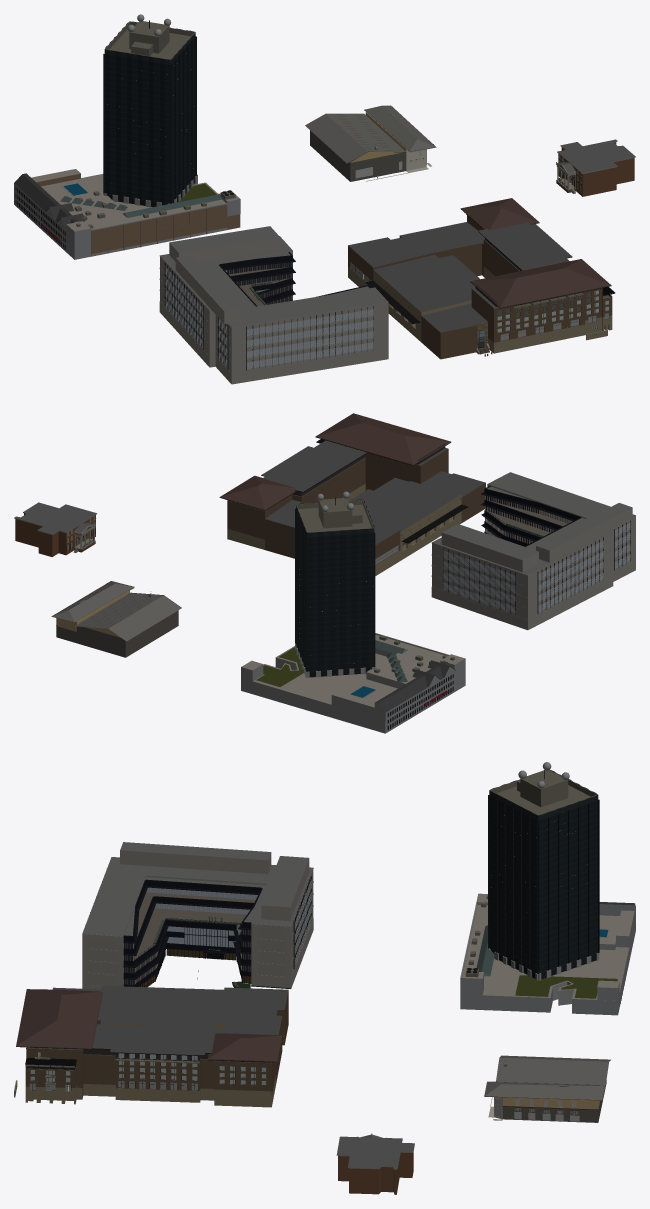
3 renders of one model, top to bottom at view 1: azimuth 30°, elevation 25°; view 2: azimuth 150°, elevation 25°; view 3: azimuth 270°, elevation 25°, orthographic. The views are drawn at different scales.
Parts seen in each view (by area): view 1: opaque, glass; view 2: opaque, glass; view 3: opaque, glass.
Boxes of the visible parts, x1,y1,x2,y2 form: opaque: [14, 14, 635, 384]; glass: [15, 37, 609, 368]; opaque: [14, 413, 635, 733]; glass: [296, 495, 630, 729]; opaque: [14, 762, 635, 1194]; glass: [30, 795, 597, 1121].
Bounding box in the file's own units: 262 × 93.12 × 249.
Materials: 2 (2 with a texture image).
